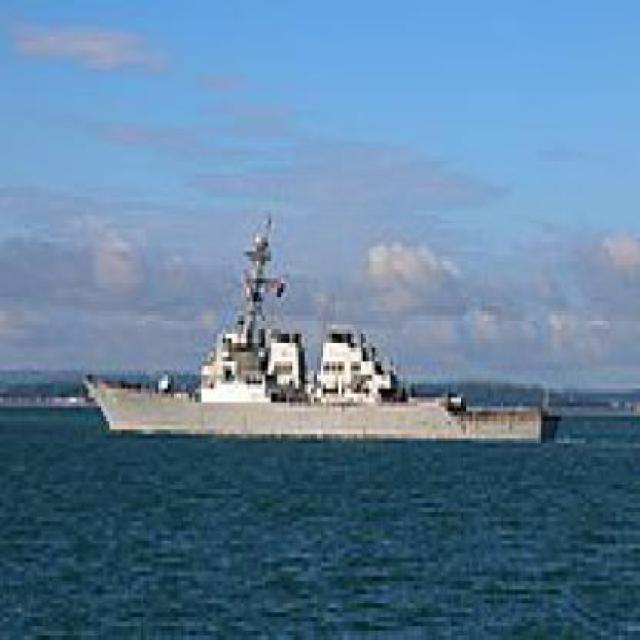warship2: (71, 202, 571, 463)
